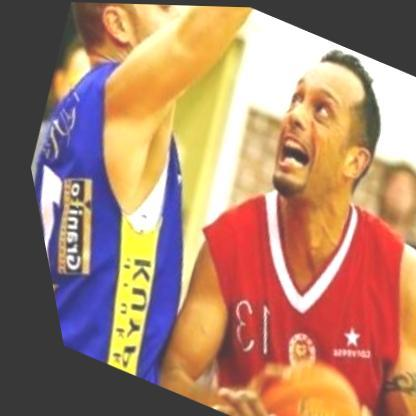basketball: (220, 335, 377, 416)
